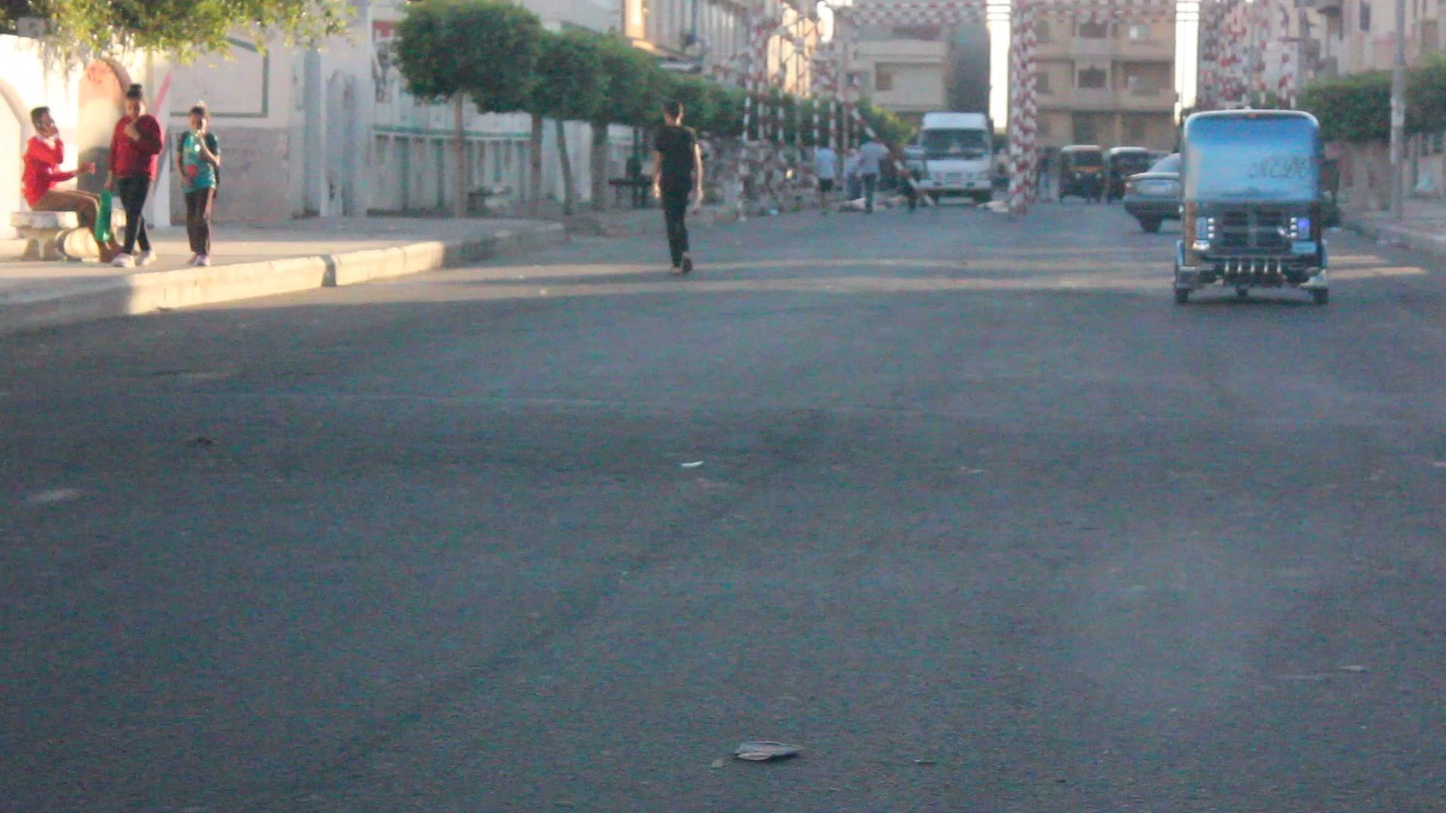Bump: (0, 378, 1446, 508)
